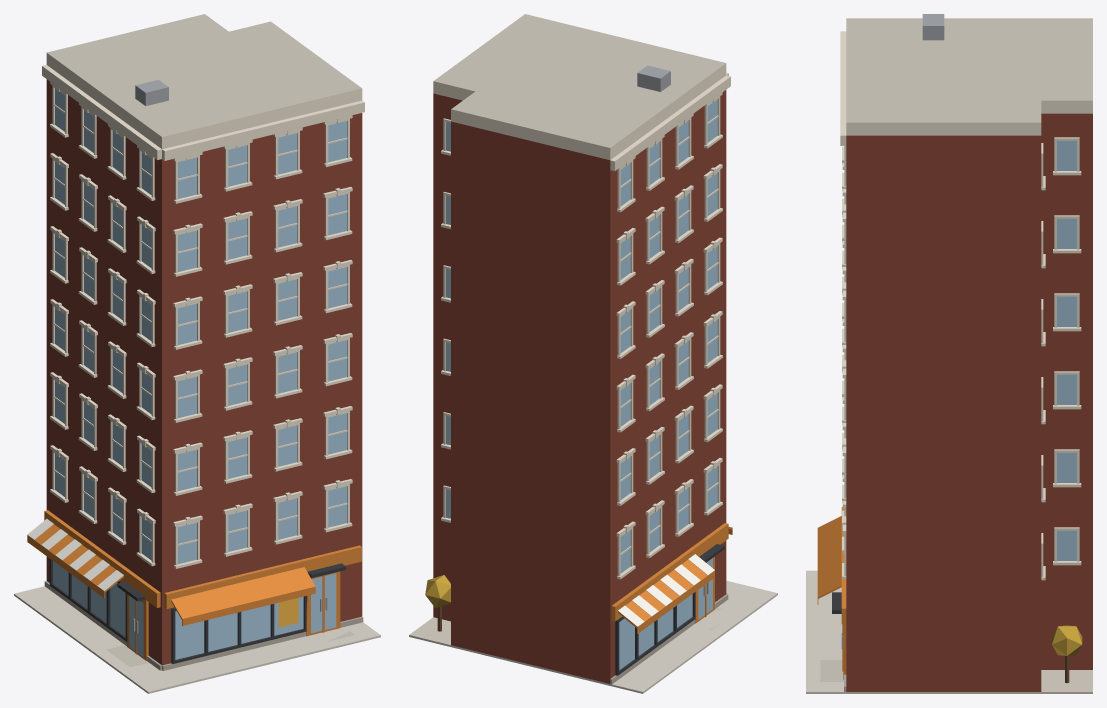
The model's file is Blok_kose_7k_2_Hafif.fbx.
The picture shows the model from 3 angles, left to right: view 1: azimuth 30°, elevation 25°; view 2: azimuth 150°, elevation 25°; view 3: azimuth 270°, elevation 25°; orthographic projection. The views are drawn at different scales.
Visible parts, largest first — view 1: Blok_kose_7k_2_Hafif; view 2: Blok_kose_7k_2_Hafif; view 3: Blok_kose_7k_2_Hafif.
Boxes of the visible parts, <box> form: Blok_kose_7k_2_Hafif: <box>14,14,380,693</box>; Blok_kose_7k_2_Hafif: <box>409,14,777,693</box>; Blok_kose_7k_2_Hafif: <box>806,14,1092,693</box>.
Size of the model in its own units: 10 by 22.57 by 10.
